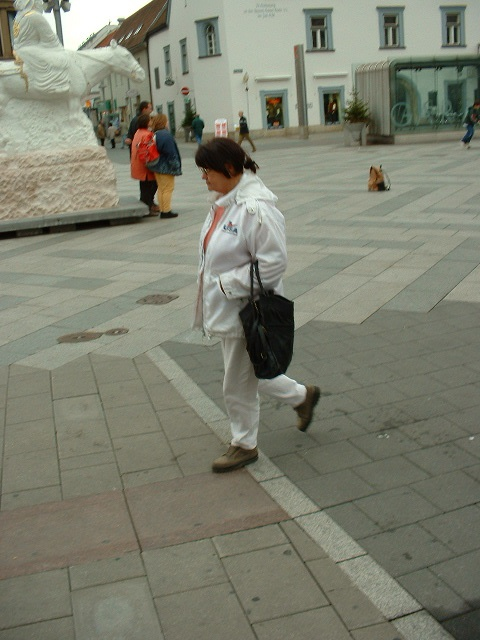person: (189, 139, 294, 473), (149, 112, 180, 218)
